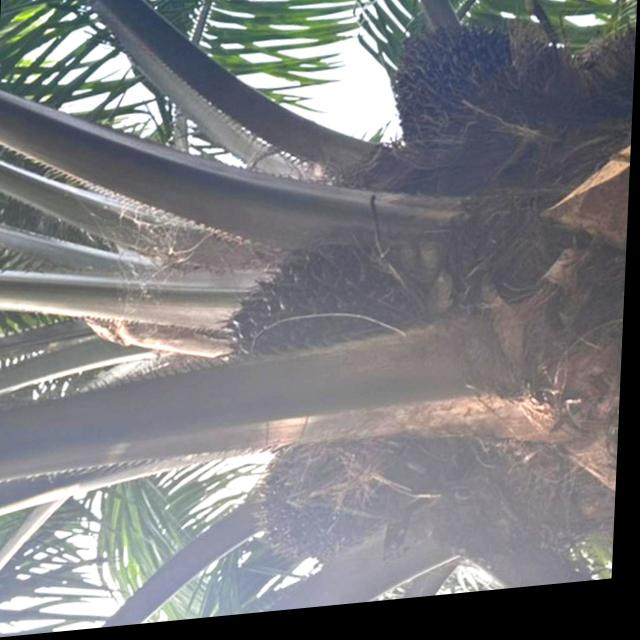ripe: (203, 229, 437, 391)
